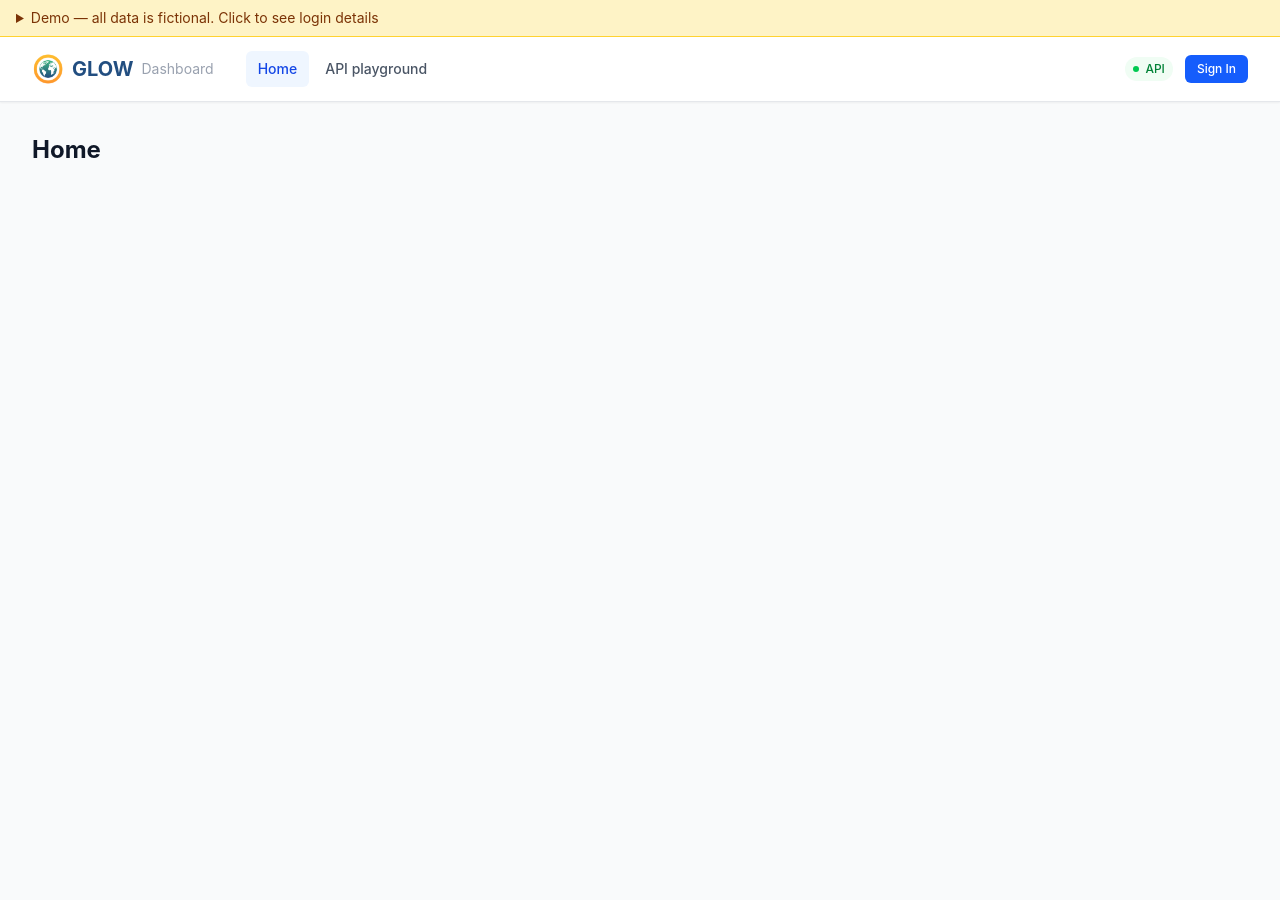
Test: Layout demo banner › keeps the reset confirmation after navigating to /login
Click the heading "Demo — all data is fictional. Click to see login details": point(205, 18) [31,9,379,26]
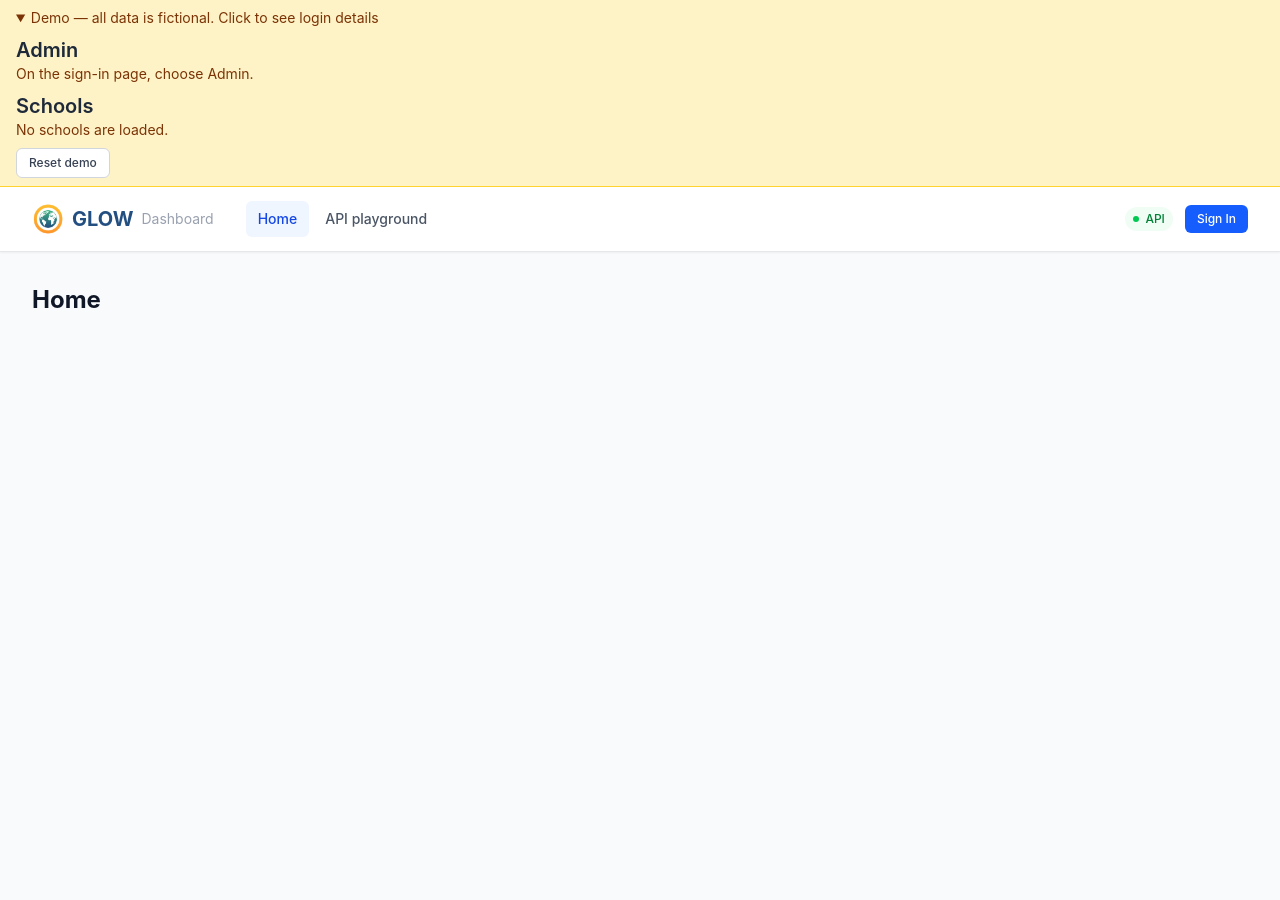
Click the button "Reset demo": point(63, 163) [16,148,110,178]
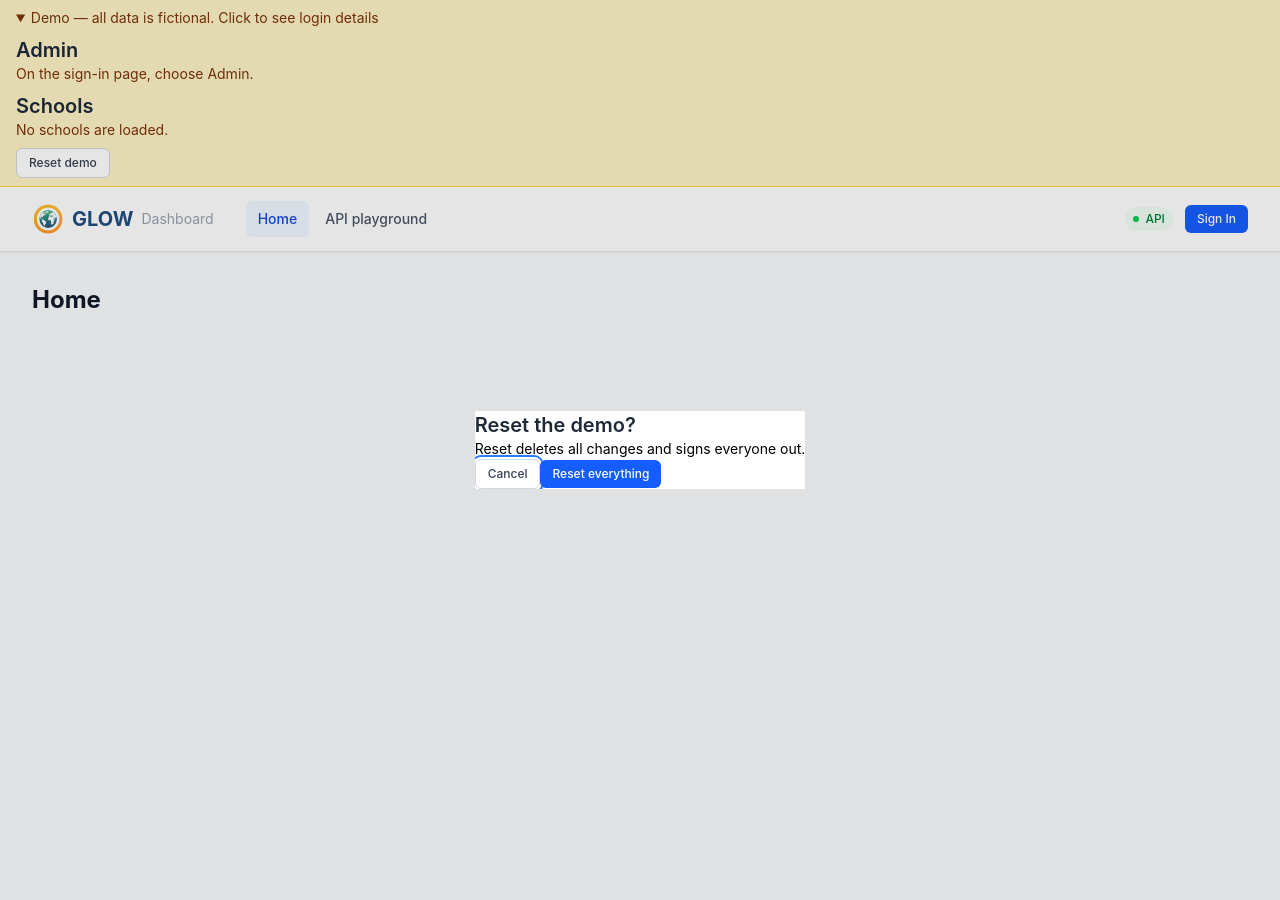
Click the button "Reset everything": point(601, 474) [540,460,661,488]
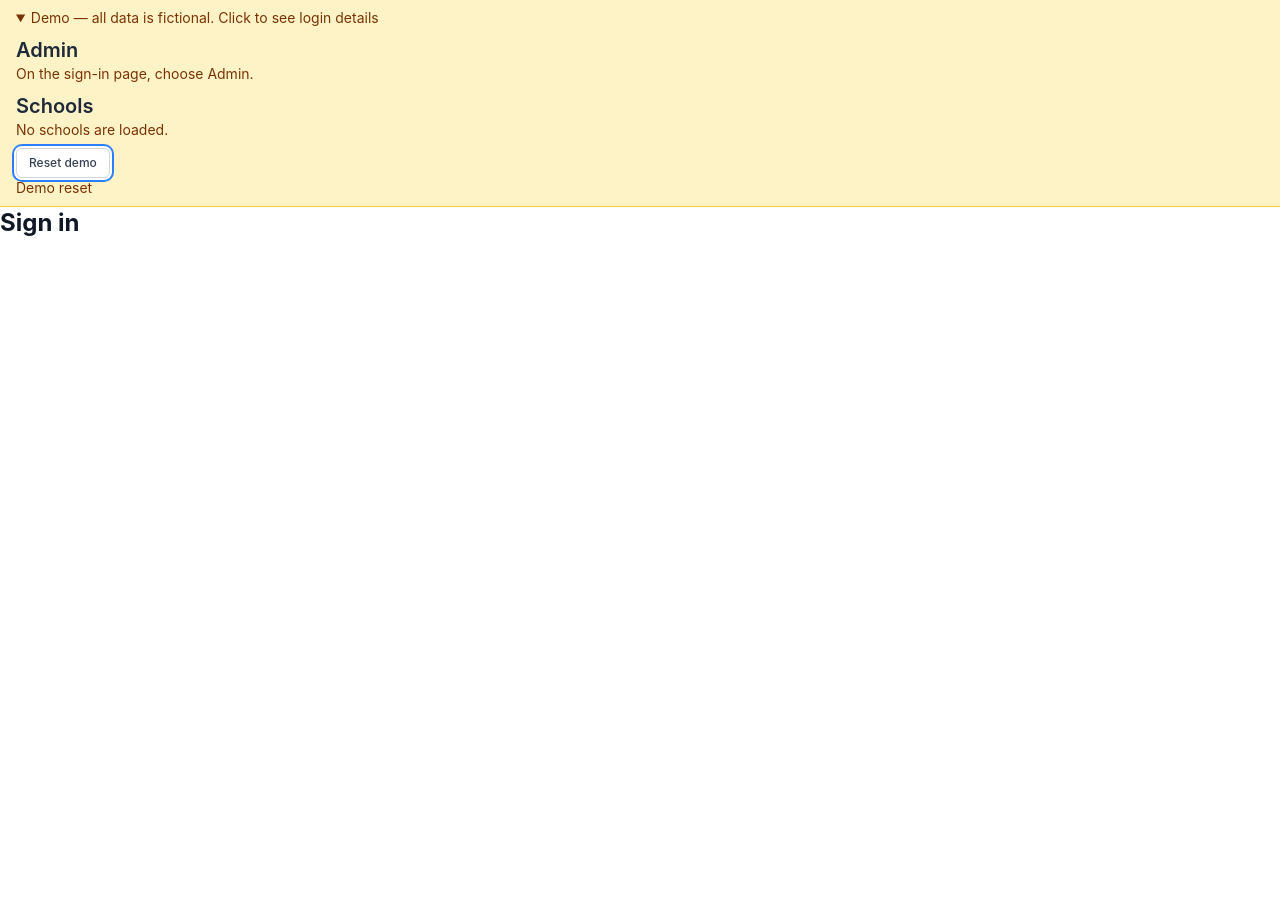
Now the message reads "Demo reset", box [16,179,92,196]
Now the heading "Sign in" is shown, box [0,208,80,237]
